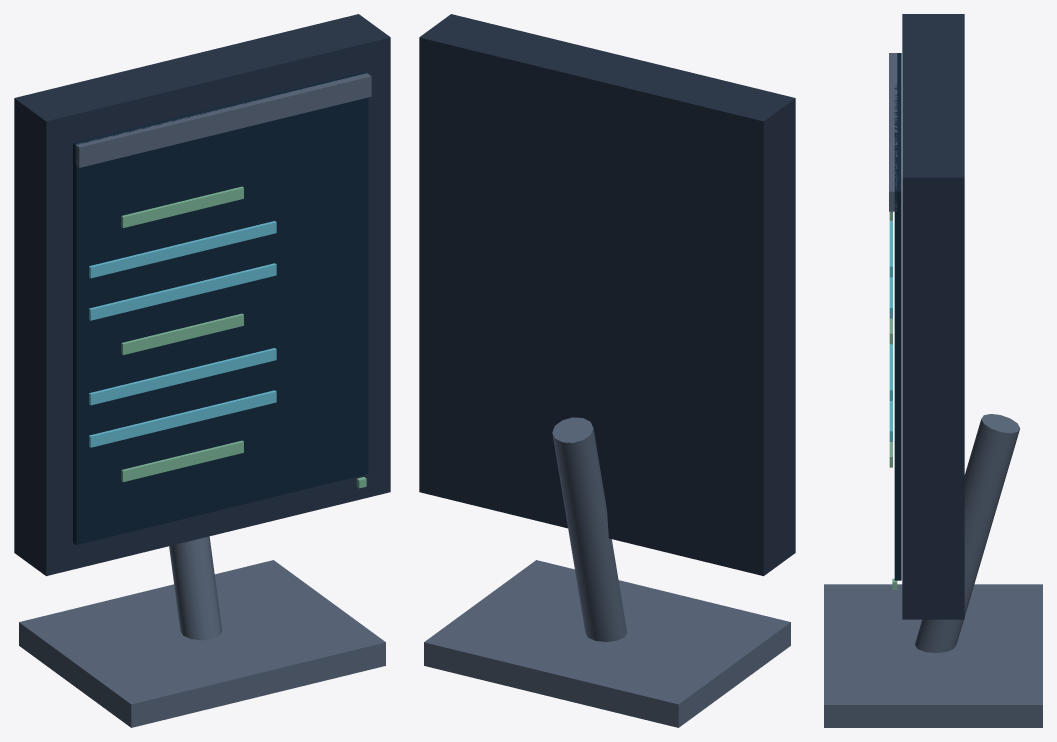
Rendered from officeTablet.glb.
The picture shows the model from 3 angles, left to right: view 1: azimuth 30°, elevation 25°; view 2: azimuth 150°, elevation 25°; view 3: azimuth 270°, elevation 25°; orthographic projection. The views are drawn at different scales.
Bounding box in the file's own units: 0.23 × 0.375 × 0.13.
